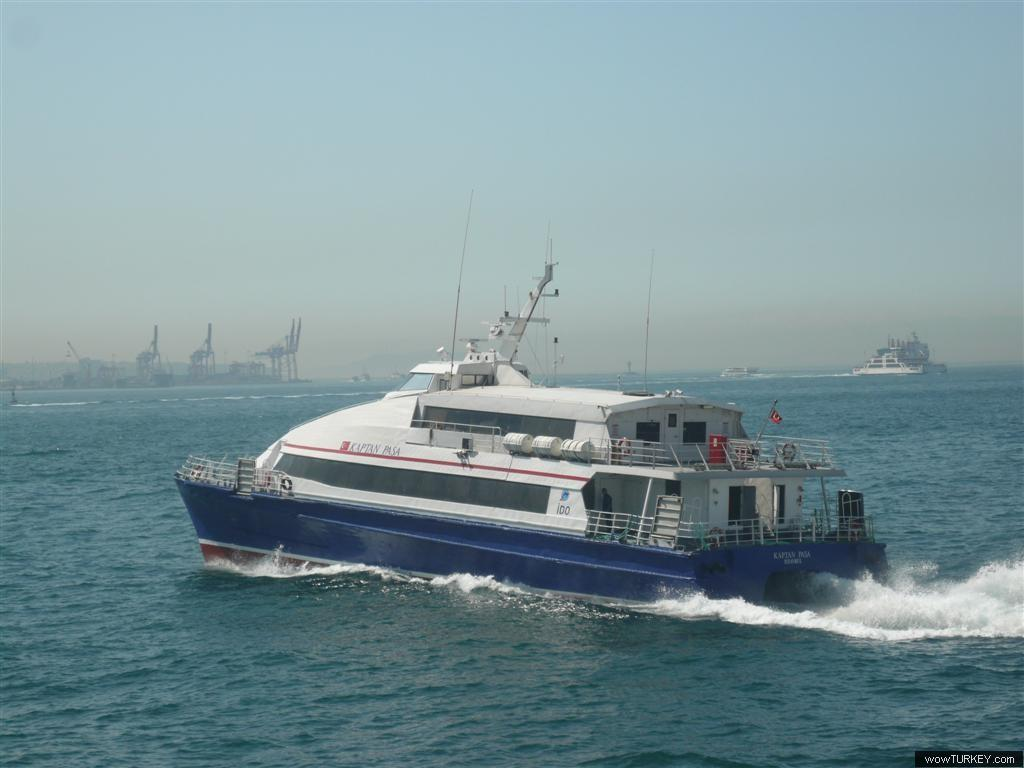PassengerShip: (172, 226, 894, 620), (850, 326, 952, 382)
